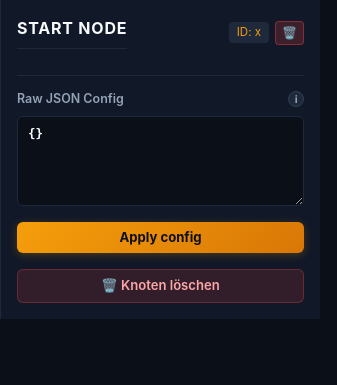
Test: shows validation error for malformed config
Replace the text in the text box named "node config" with "not-json" at (160, 161), box [17, 116, 304, 206]
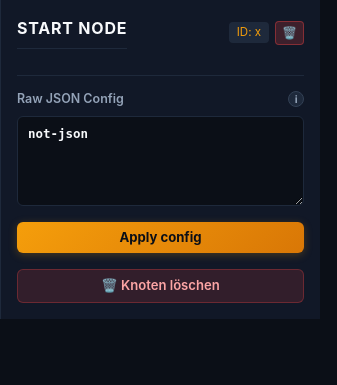
Click the button "Apply config" at (160, 238), box [17, 222, 304, 253]
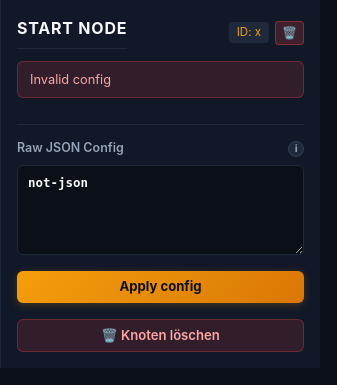
Expected: the message shows "Invalid", [30, 72, 111, 87]
